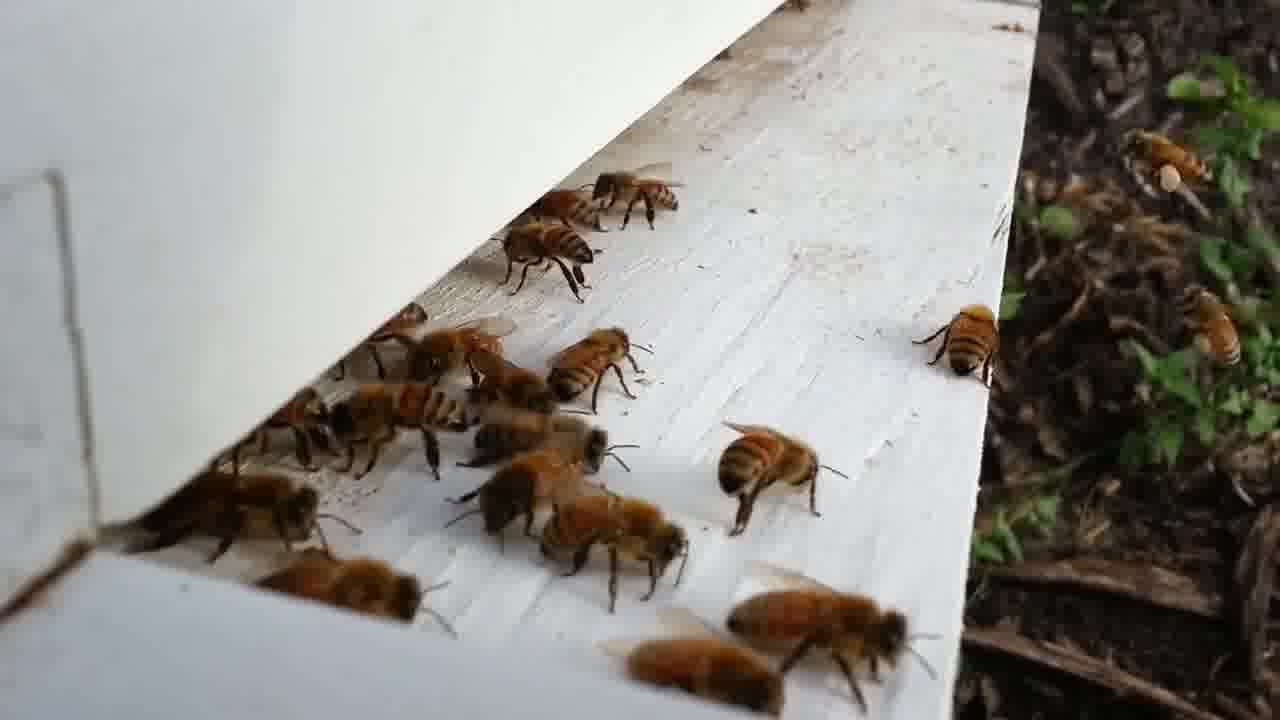pollen: (1175, 281, 1245, 367), (1124, 128, 1212, 194)
